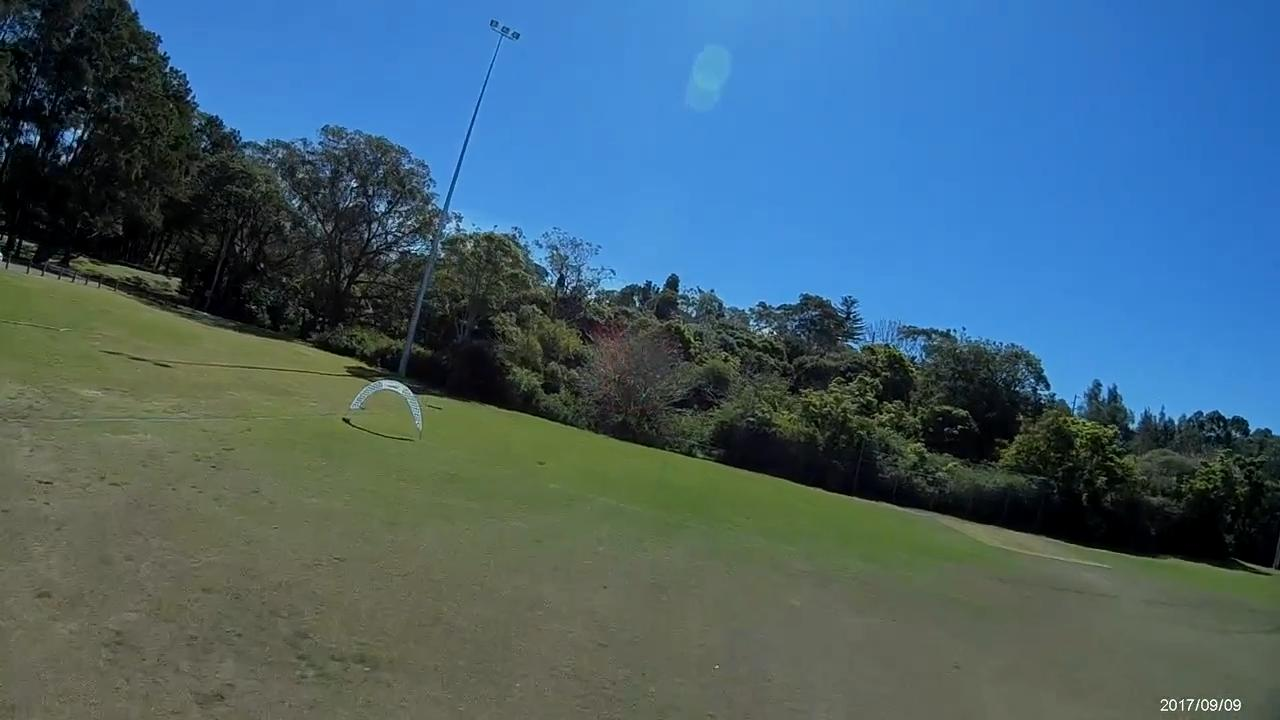gate: (347, 379, 422, 431)
